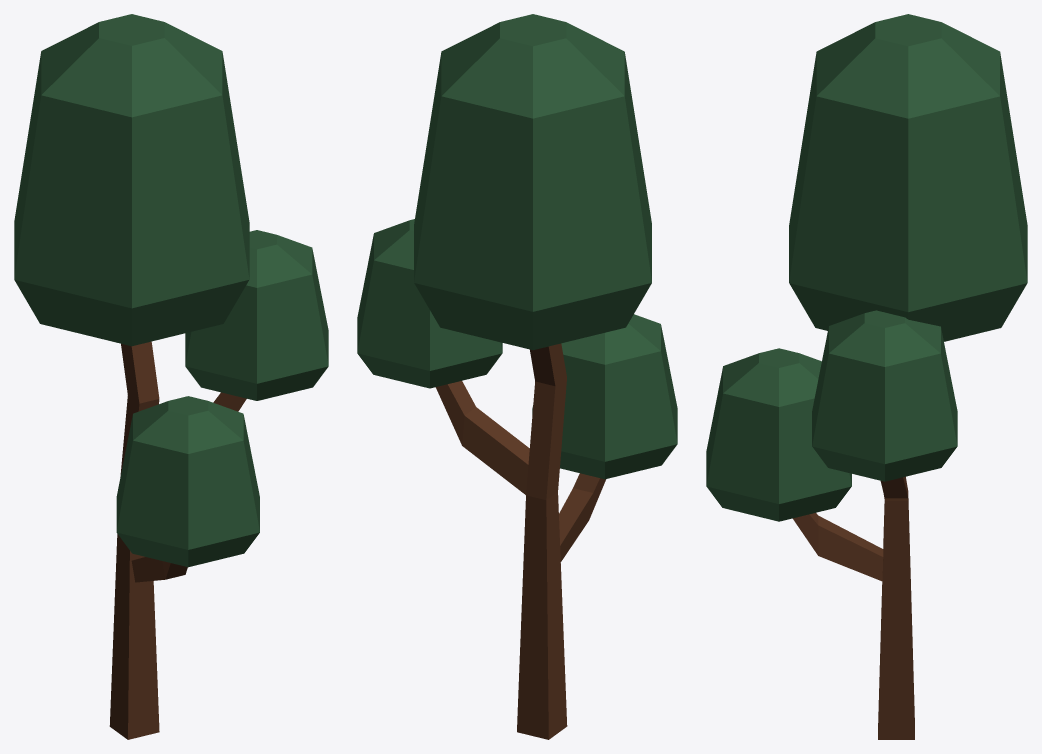
Rendered from tree_thin.glb.
The picture shows the model from 3 angles, left to right: view 1: azimuth 30°, elevation 25°; view 2: azimuth 150°, elevation 25°; view 3: azimuth 270°, elevation 25°; orthographic projection.
Parts seen in each view (by area): view 1: tree_thin; view 2: tree_thin; view 3: tree_thin.
Part boxes in pixels (box(x1,y1,x2,y2)): tree_thin: box(14, 14, 328, 739); tree_thin: box(357, 14, 677, 739); tree_thin: box(706, 14, 1027, 739).
Bounding box in the file's own units: 0.6804 × 1.49 × 0.6165.
